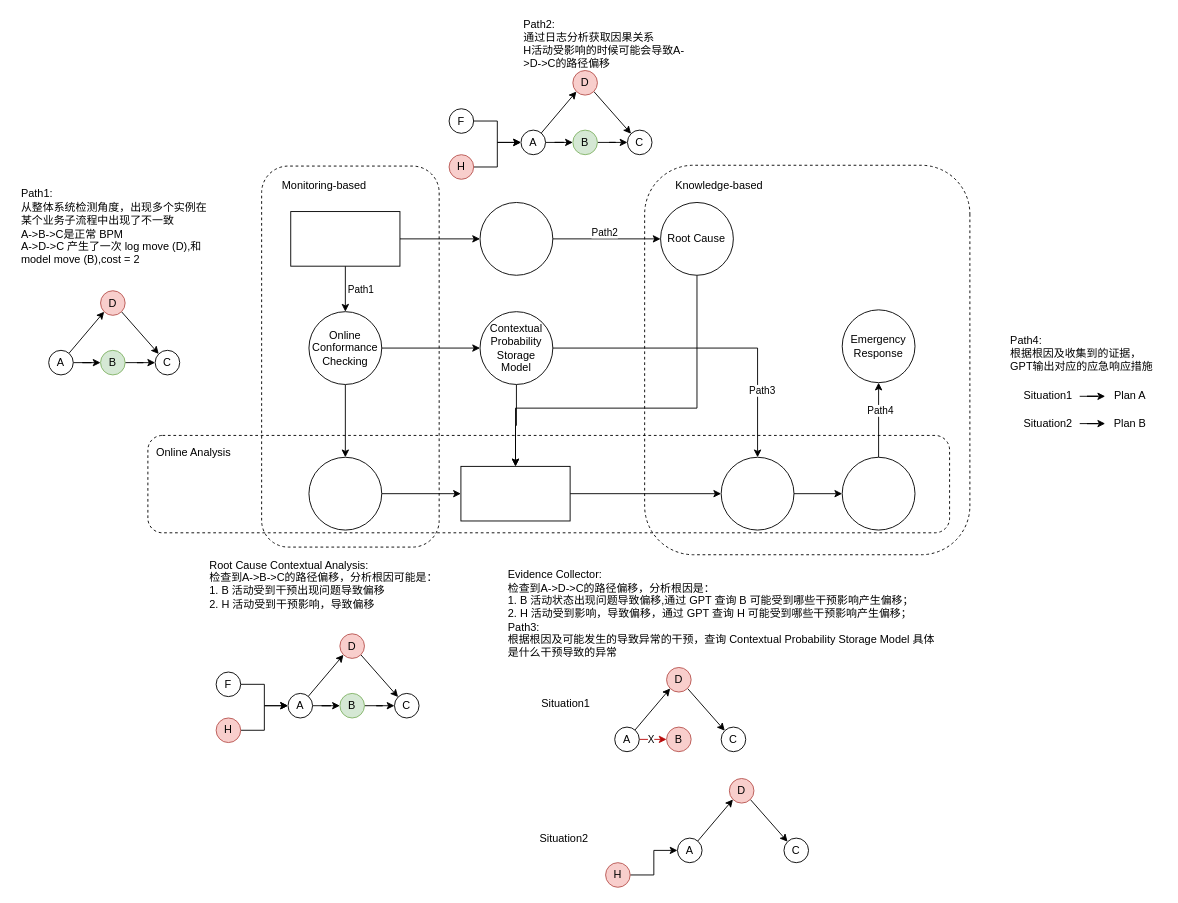
Image size: 1178x903. Some labels were removed from this diagram. The centre of each missing label's shape, as x and y in pixels:
"Deviating traces" goes at pixel 345 493.
"Evidence Collector" goes at pixel 757 493.
"GPT" goes at pixel 878 493.
"Log" goes at pixel 516 238.
"PAIS: Activity & KPI" goes at pixel 345 238.
"Root Cause Contextual Analysis" goes at pixel 515 493.
